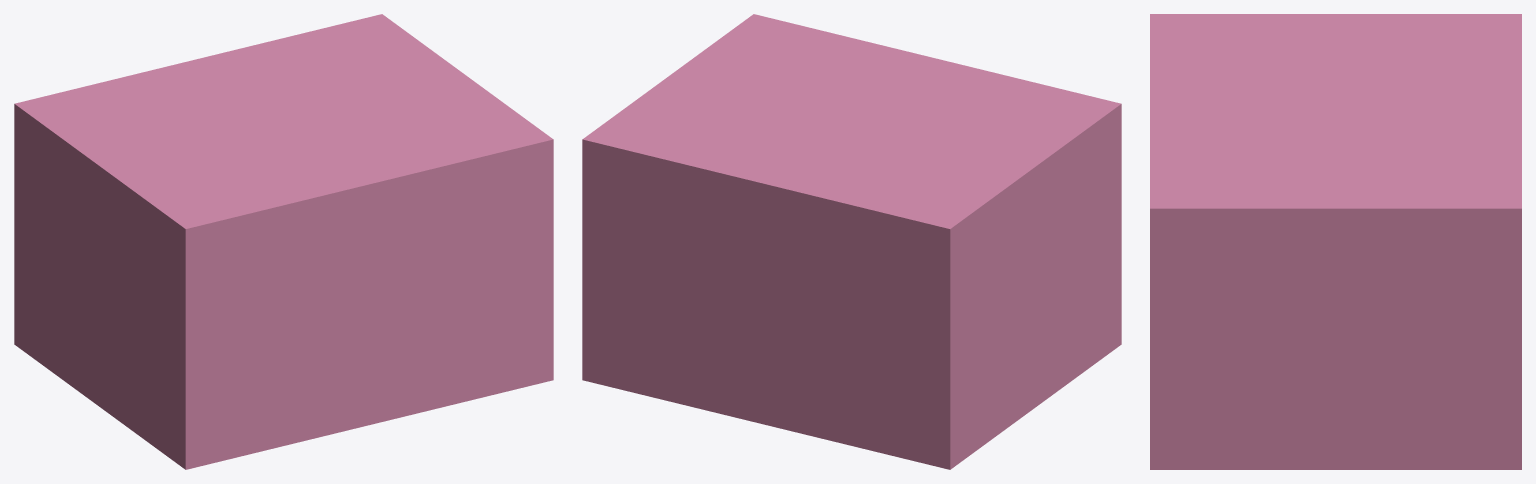
The model's file is tree_beech_bush_e.dae.
3 views of the same model, side by side, from view 1: azimuth 30°, elevation 25°; view 2: azimuth 150°, elevation 25°; view 3: azimuth 270°, elevation 25° (orthographic). The views are drawn at different scales.
Parts seen in each view (by area): view 1: Untitled; view 2: Untitled; view 3: Untitled.
Part boxes in pixels (x1,y1,x2,y2): Untitled: (14, 14, 553, 469); Untitled: (582, 14, 1121, 469); Untitled: (1150, 14, 1521, 469).
Size of the model in its own units: 8.86 by 7.15 by 5.68.
